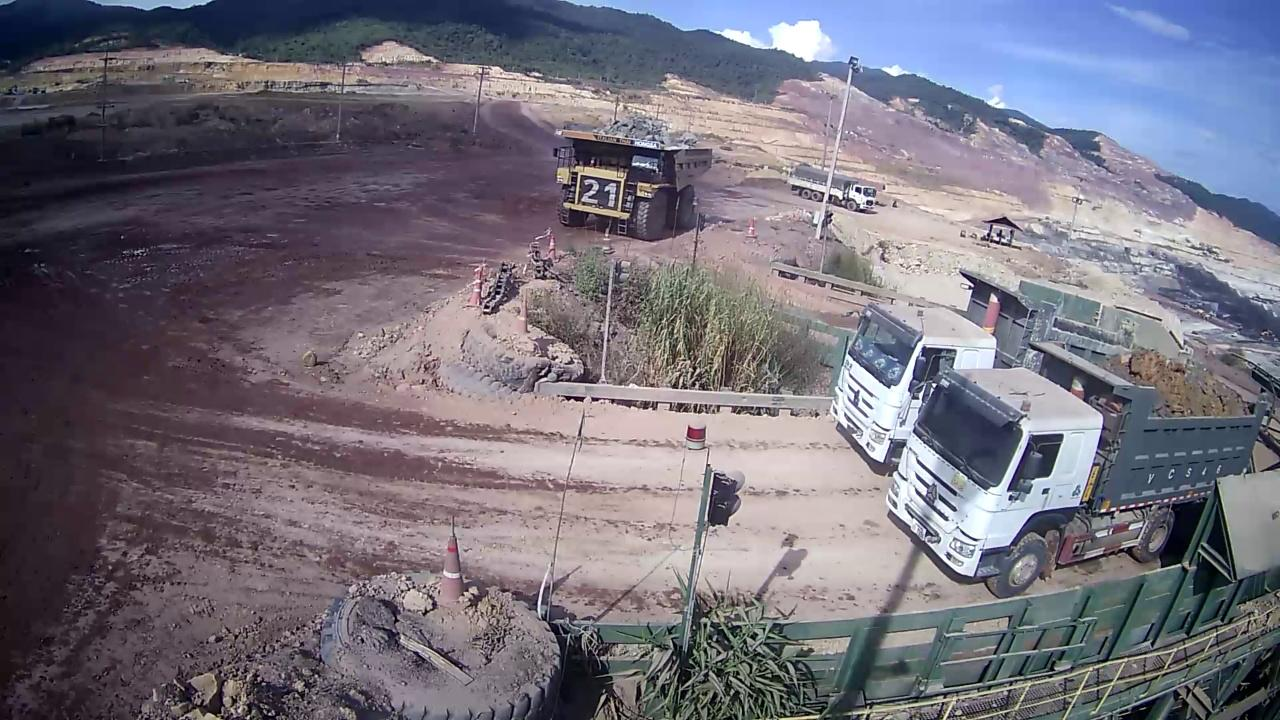front_number: (578, 176, 622, 211)
full_load: (594, 114, 687, 141)
mining_truck: (551, 113, 713, 241)
